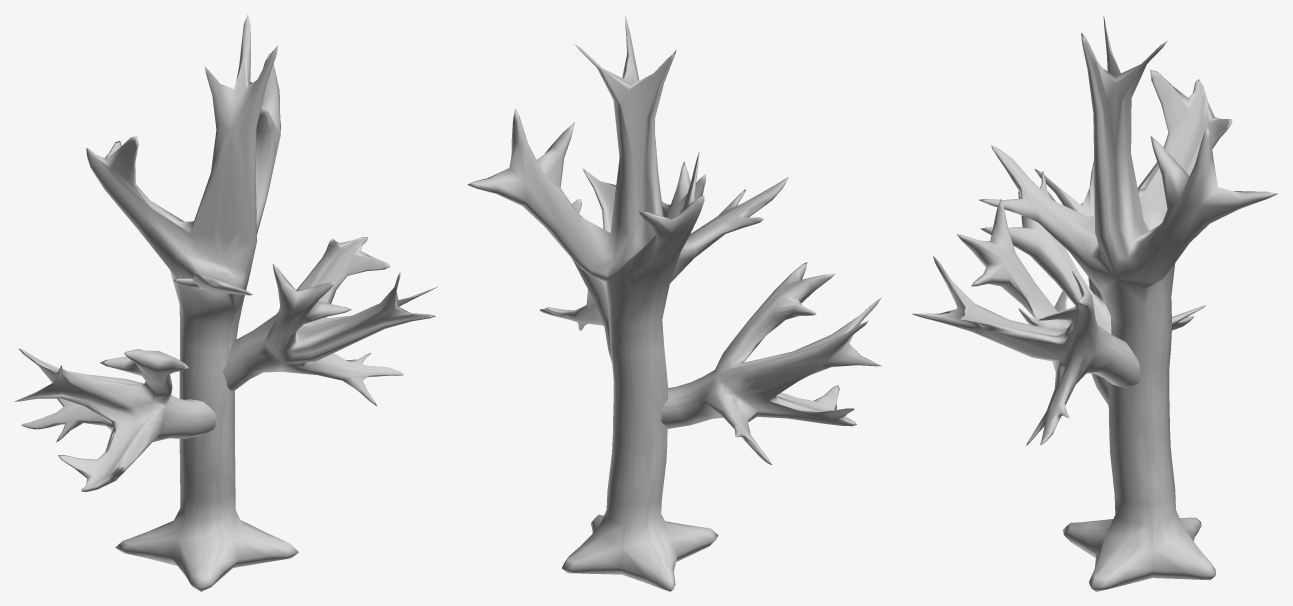
The model's file is Tree6.fbx.
3 renders of one model, left to right at view 1: azimuth 30°, elevation 25°; view 2: azimuth 150°, elevation 25°; view 3: azimuth 270°, elevation 25°, orthographic. The views are drawn at different scales.
Visible parts, largest first — view 1: Tree6; view 2: Tree6; view 3: Tree6.
Part boxes in pixels (<box>): Tree6: <box>14,14,437,591</box>; Tree6: <box>467,15,881,591</box>; Tree6: <box>912,16,1277,591</box>.
Bounding box in the file's own units: 7.47 × 10.15 × 6.12.
